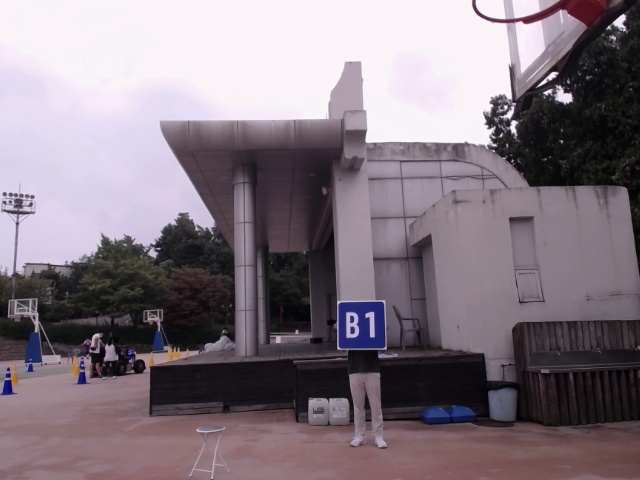delivery_b1: (337, 301, 386, 350)
